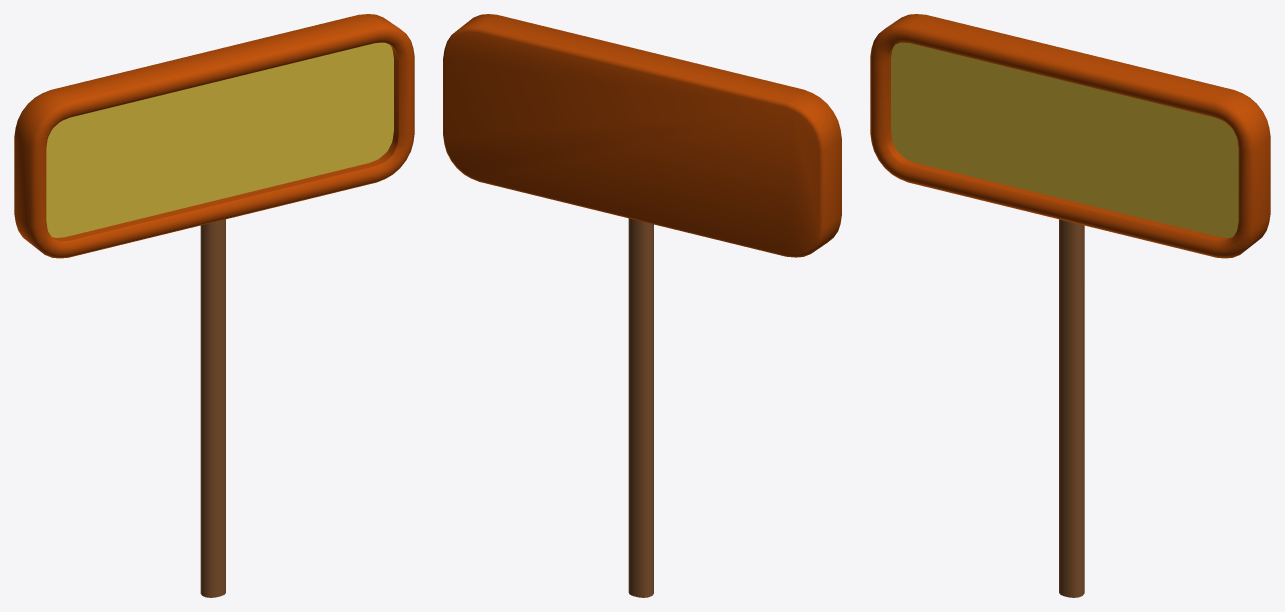
File: highscore_Setup.fbx
The picture shows the model from 3 angles, left to right: view 1: azimuth 30°, elevation 25°; view 2: azimuth 150°, elevation 25°; view 3: azimuth 330°, elevation 25°; orthographic projection.
Visible parts, largest first — view 1: highScoreTable, highScoreColumn; view 2: highScoreTable, highScoreColumn; view 3: highScoreTable, highScoreColumn.
Boxes of the visible parts, <box> form: highScoreTable: <box>14,14,414,258</box>; highScoreColumn: <box>200,219,225,597</box>; highScoreTable: <box>443,14,841,257</box>; highScoreColumn: <box>628,218,653,597</box>; highScoreTable: <box>870,14,1270,258</box>; highScoreColumn: <box>1059,219,1084,597</box>.
Size of the model in its own units: 3.8 by 5.07 by 0.3571.
